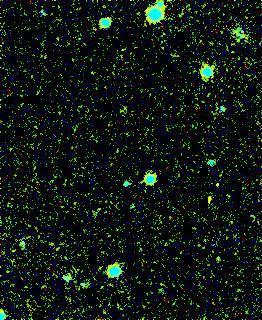star: (198, 162, 228, 192)
